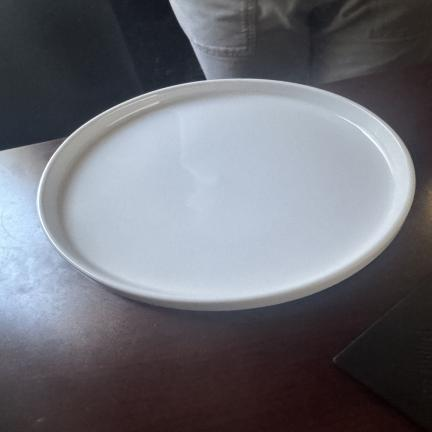plate: (38, 80, 414, 310)
